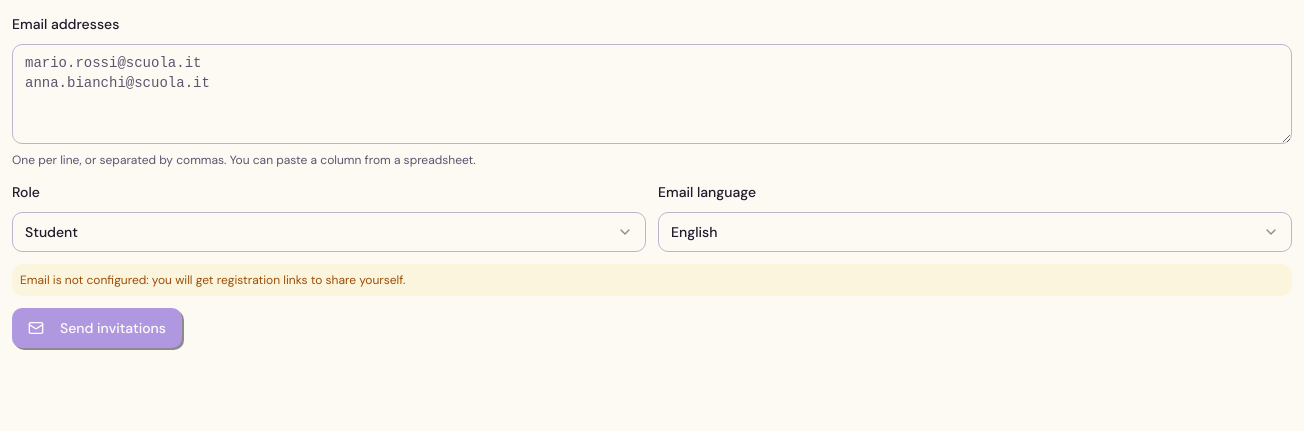
Scenario: InviteForm › sends the addresses to the given sender and shows the results
Type "a@x.it" into the text box.
click(652, 94); type("a@x.it")  # box [12,44,1292,144]
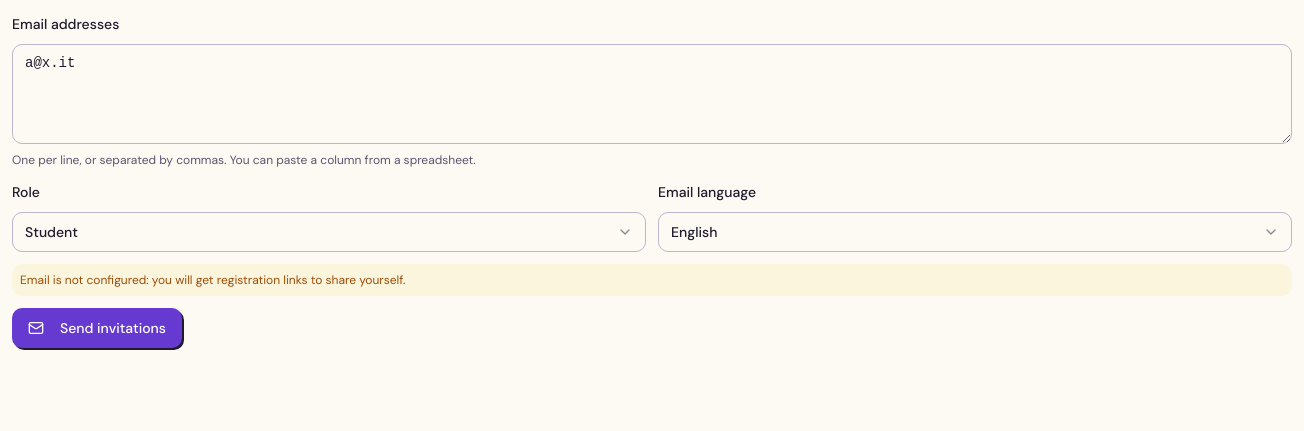
Click the button "Send invitations".
click(97, 328)  # box [12,308,182,348]
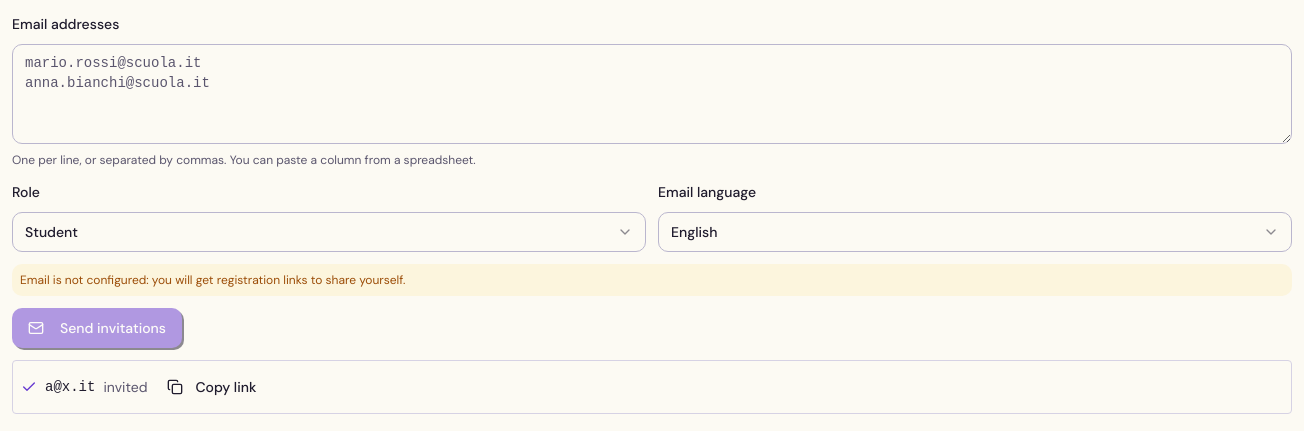
expect the text "a@x.it" is shown: met, box [45,377,95,397]
